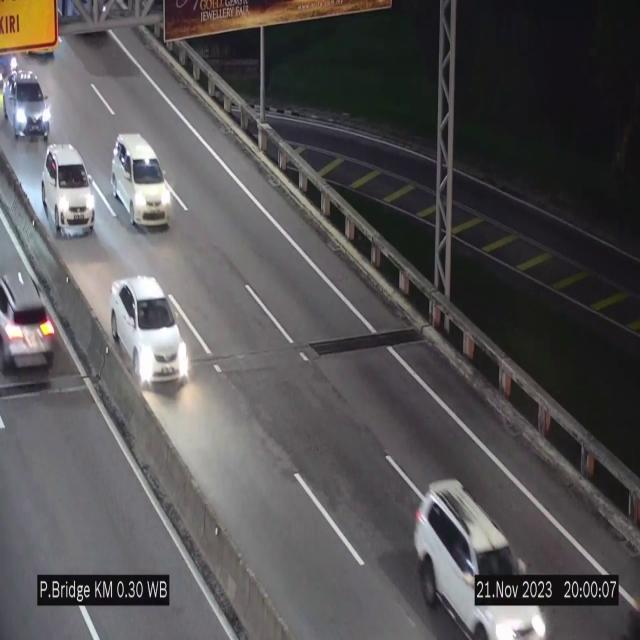Car: (111, 276, 189, 386), (111, 133, 172, 228), (41, 143, 95, 237), (2, 57, 50, 139)
